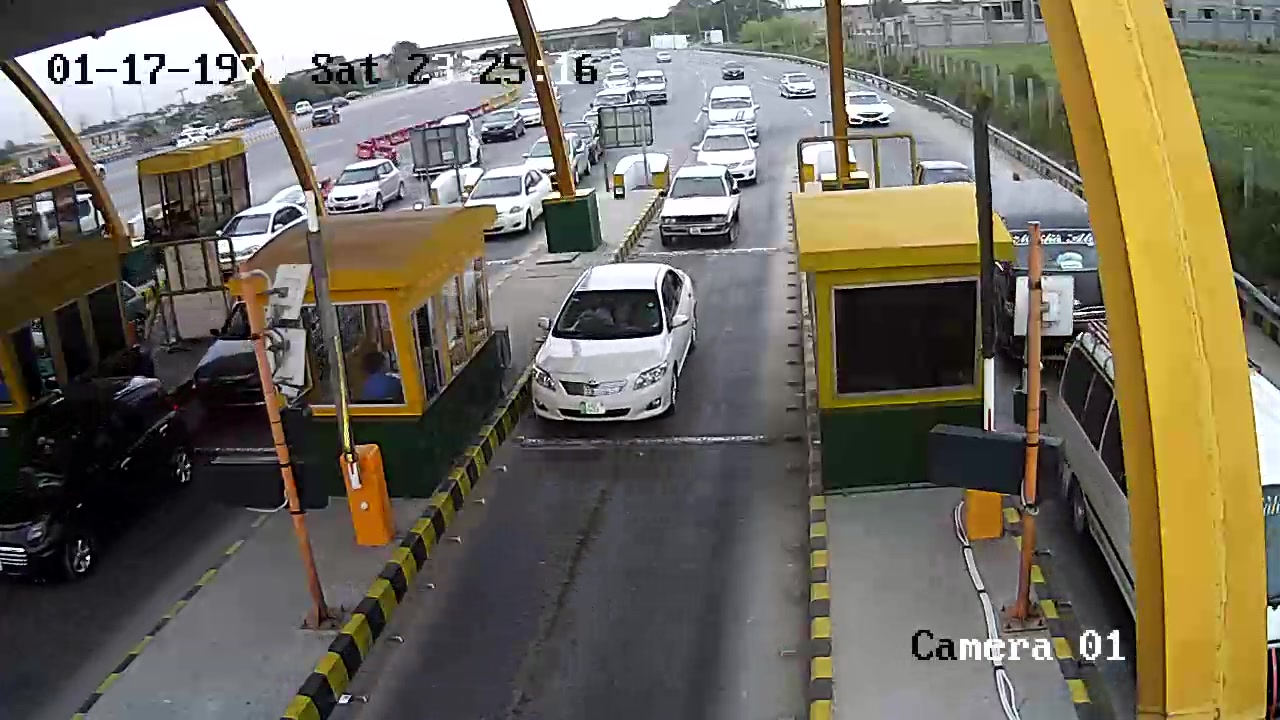F1: (528, 259, 707, 445)
